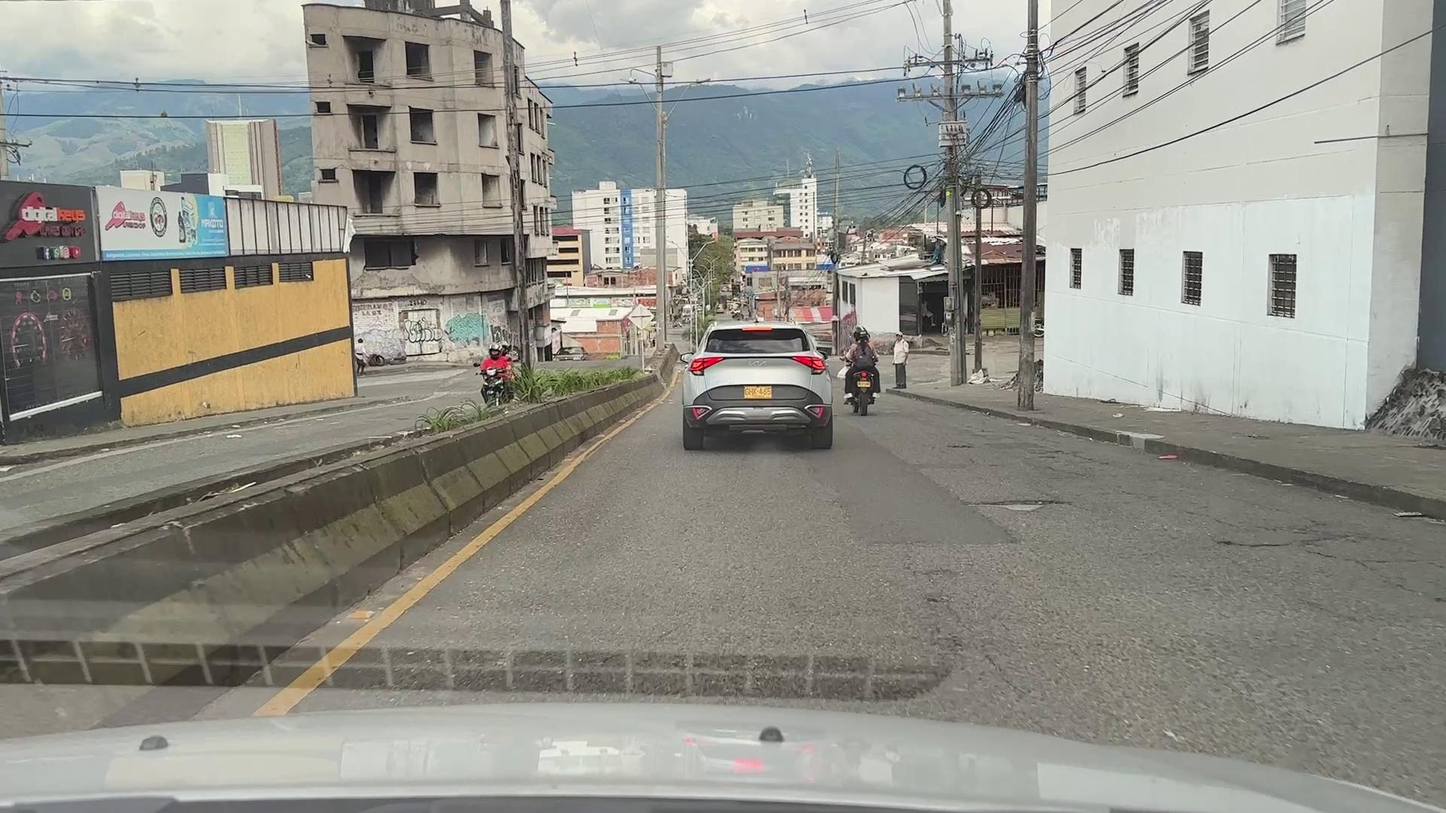bache: (964, 500, 1070, 511), (947, 445, 974, 448)
